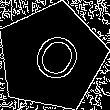O_SW: (20, 25, 83, 90)
